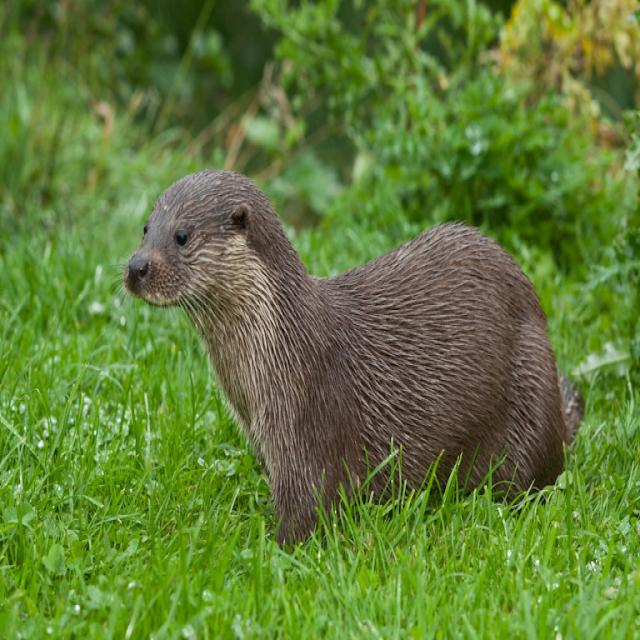otter: (126, 167, 567, 535)
